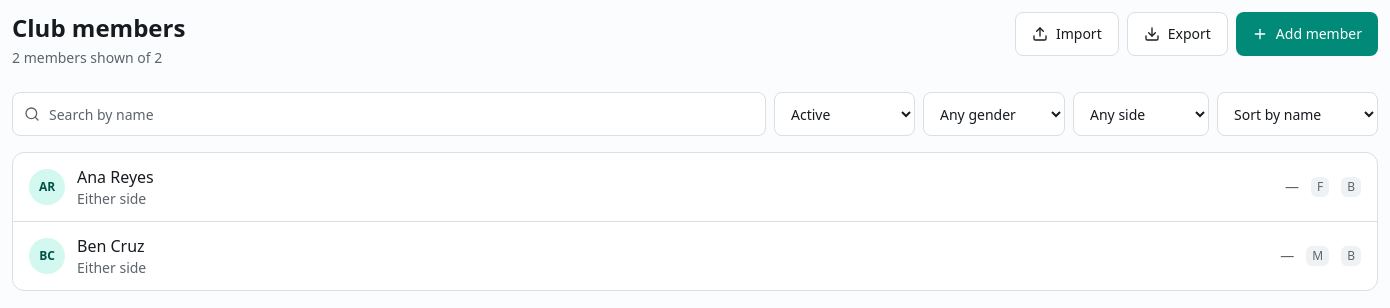
Scenario: MembersPage gender › filters the list by gender
Expected: the text "Ana Reyes" is shown, [77,166,154,188]
Select "Male" in the dropdown named "Filter by gender". click: (994, 114)
box: [923,92,1065,136]
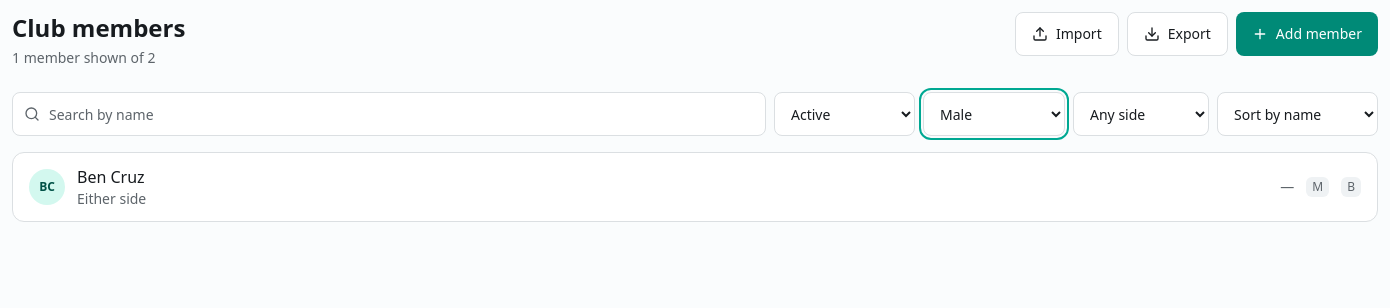
Expected: the text "Ben Cruz" is shown, [77,166,145,188]
Expected: the link "Ana Reyes" is gone
